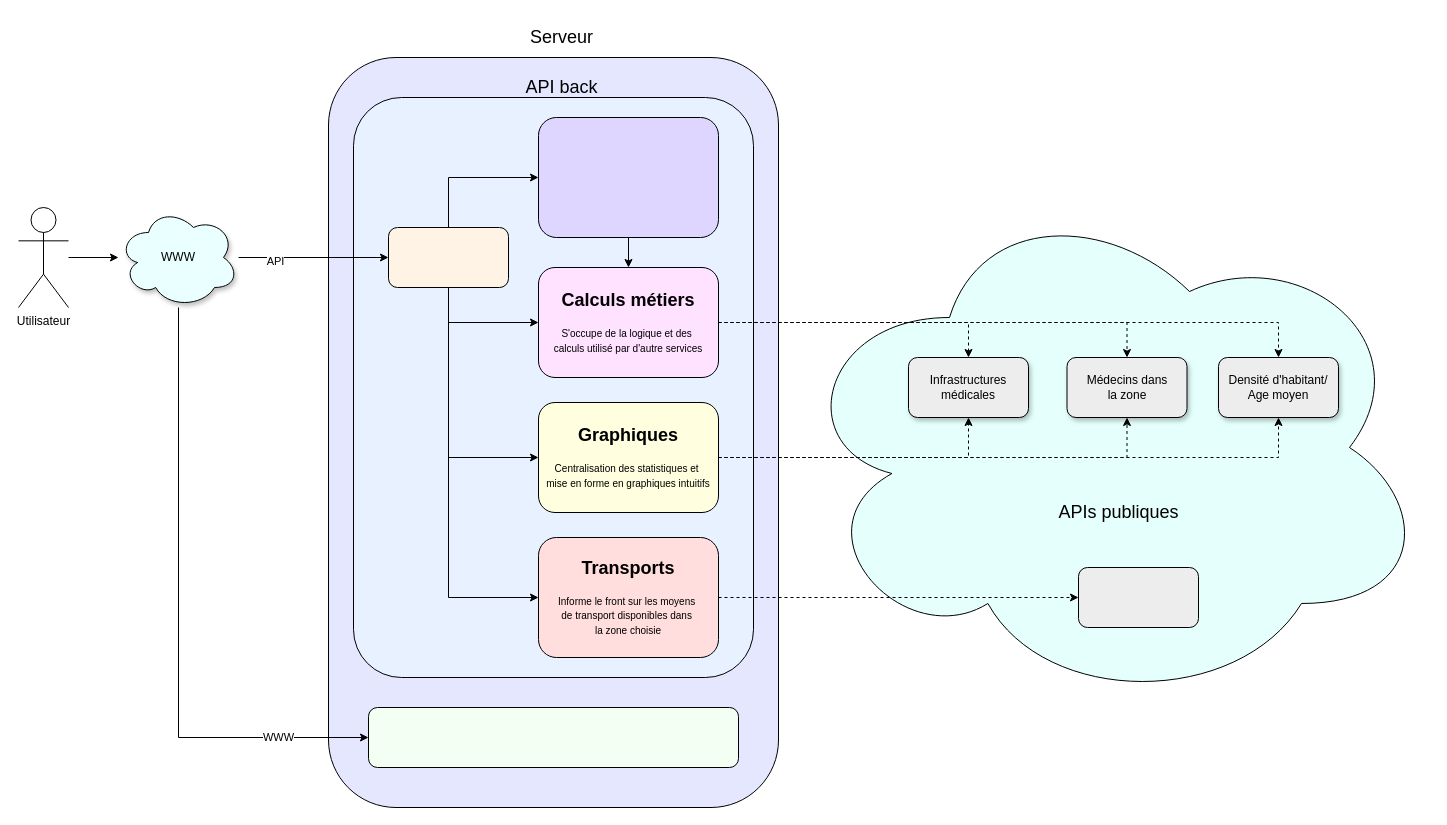
Image size: 1447x825. Some labels were removed from this diagram. The shapes that lost their labels are listed below. From the top down, each one's centre as x and y in pixels, then its label:
point 628,177: Rendu visuel Récupère les calculs de densités et les communiques au front
point 448,257: Backend
point 1138,597: API Transports
point 553,737: Frontend
